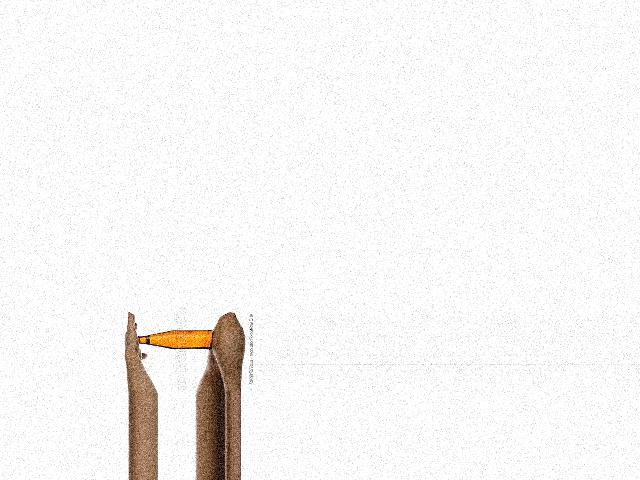beer: (136, 330, 212, 350)
